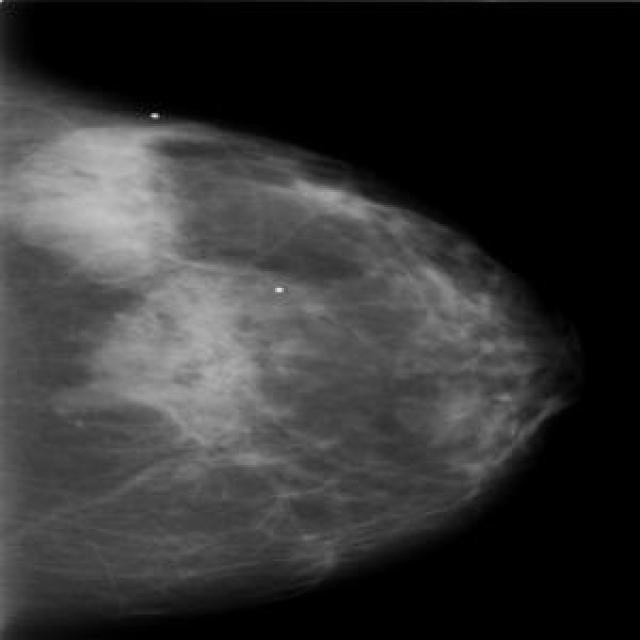tumor: (80, 278, 317, 440), (24, 108, 218, 268)
